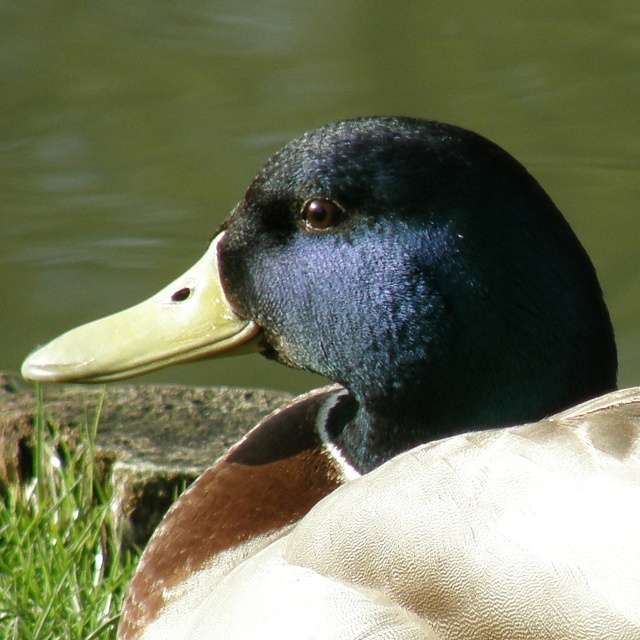Duck: (35, 99, 640, 582)
